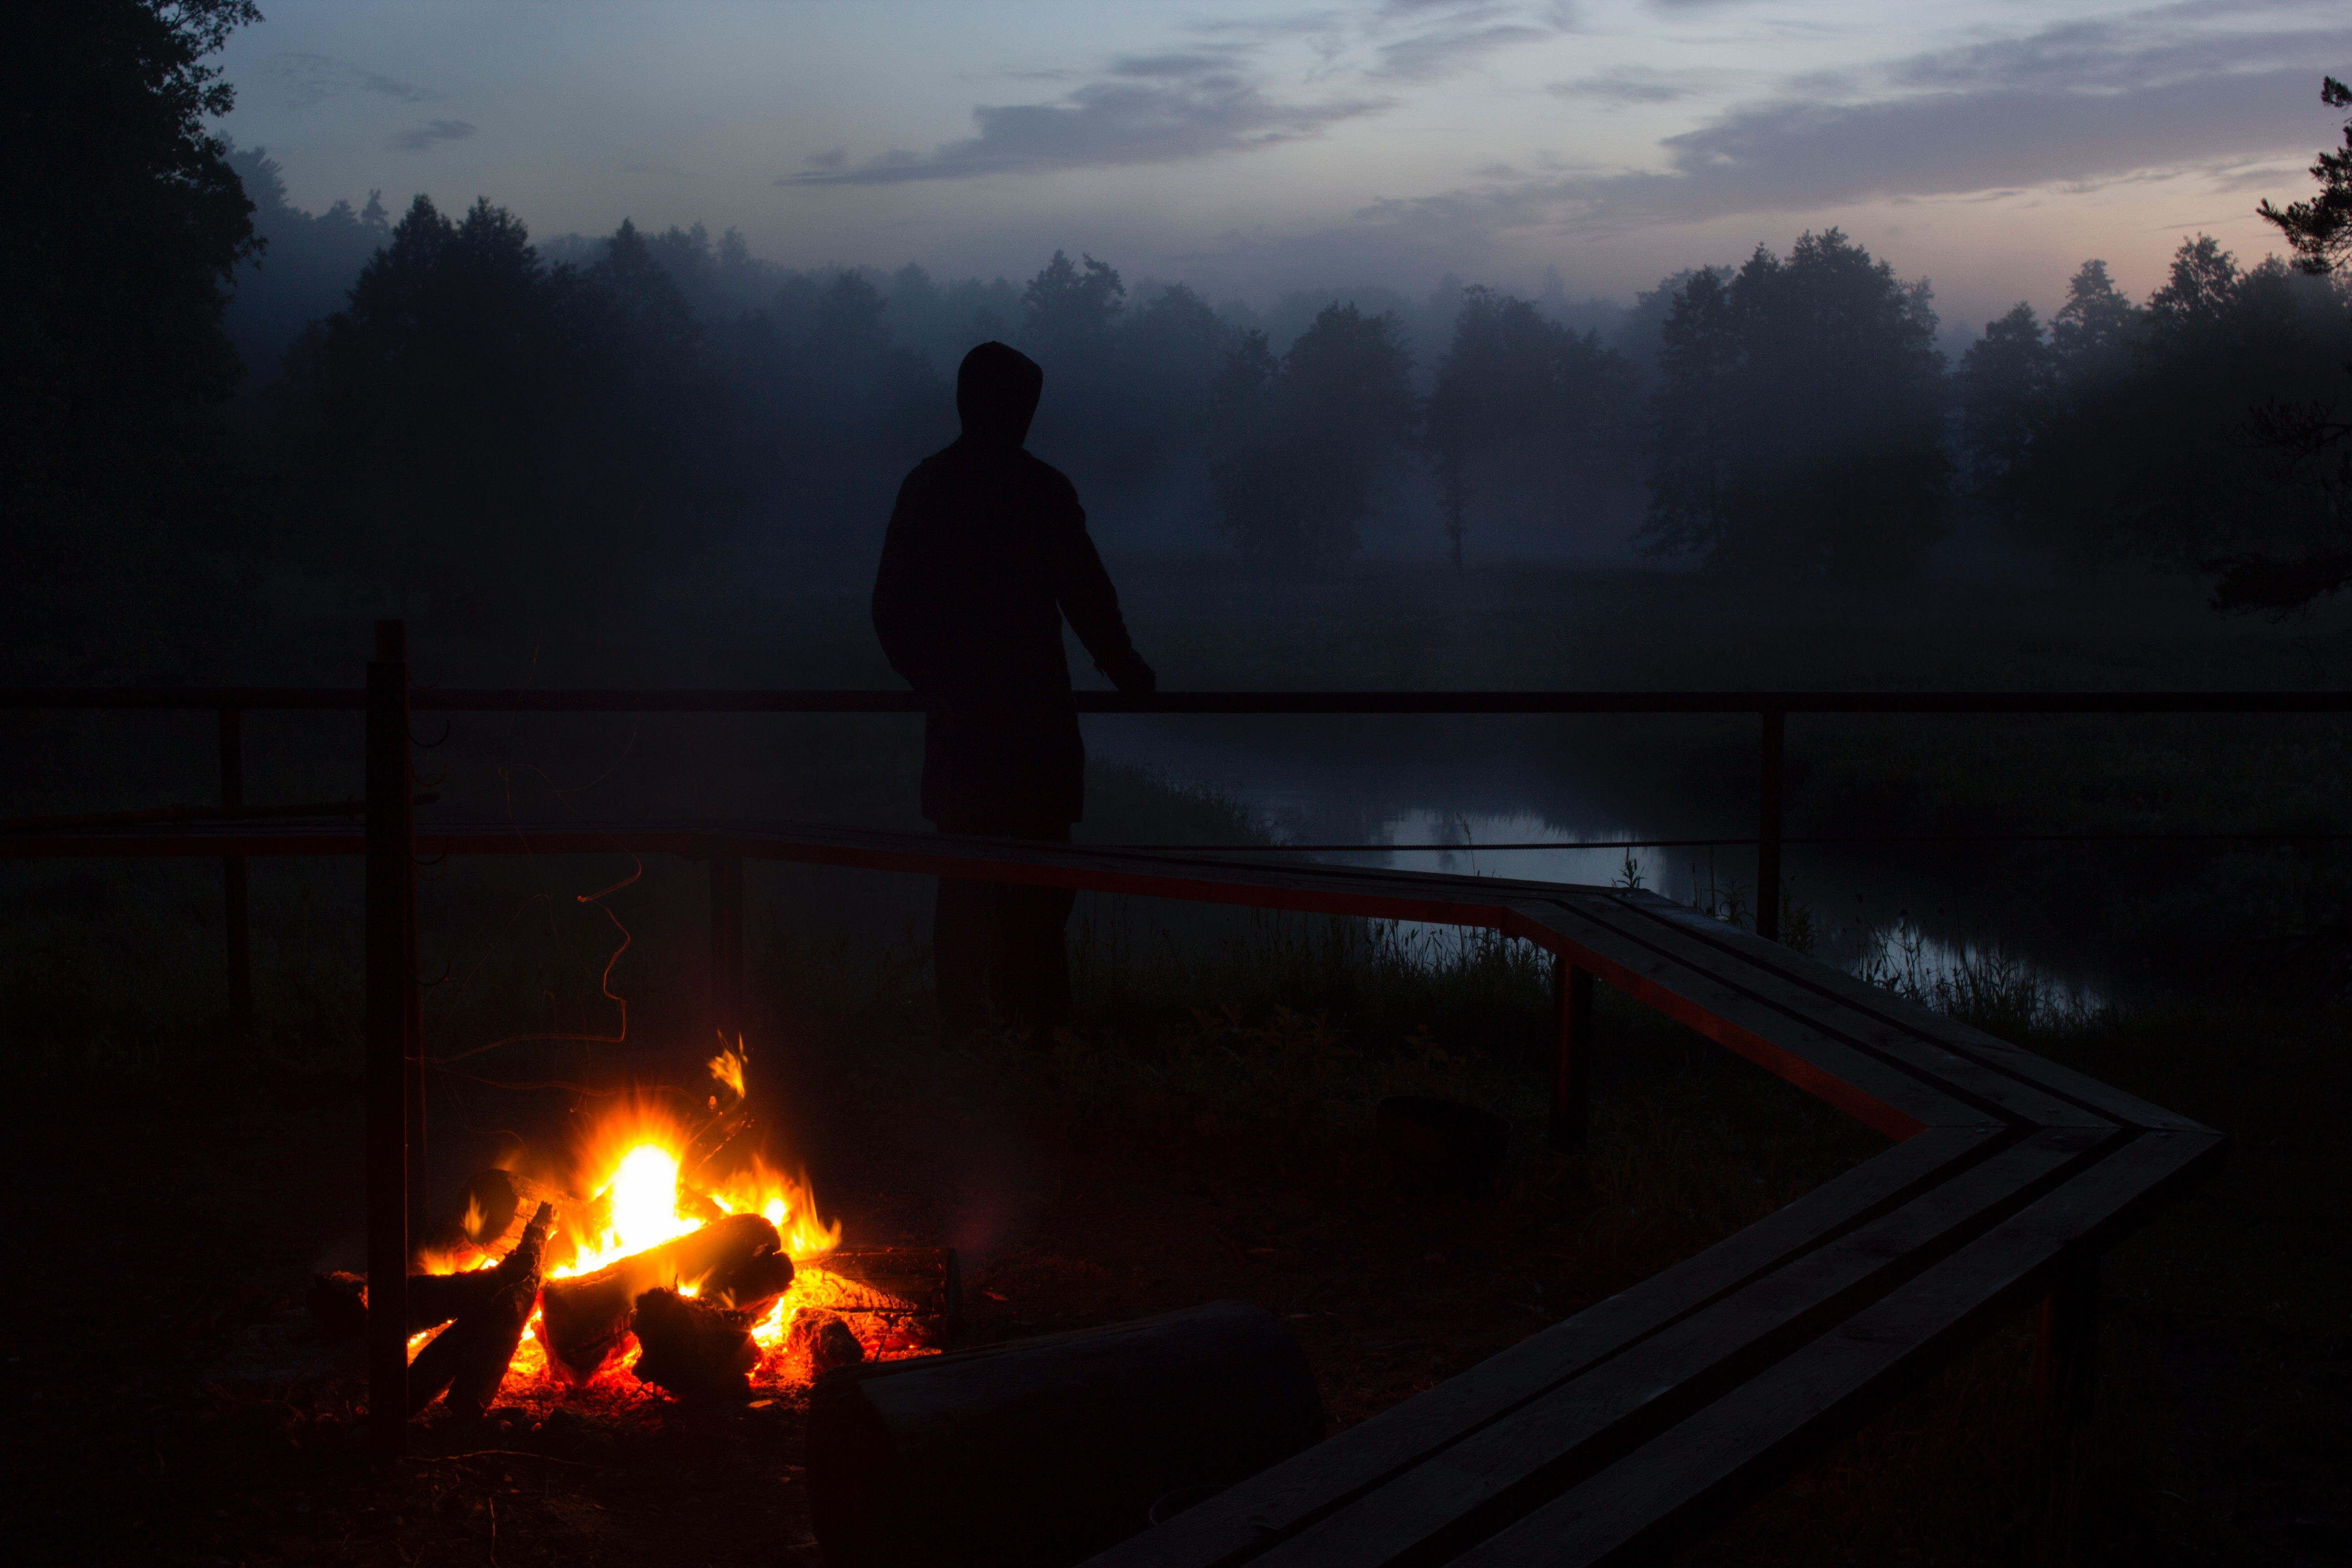fire: (394, 1038, 920, 1409)
